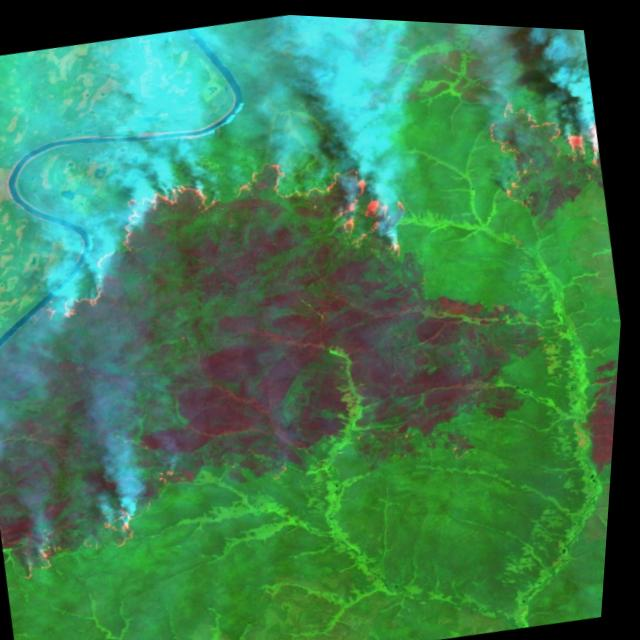fire: (19, 117, 434, 342), (0, 451, 207, 592), (460, 74, 613, 217), (342, 390, 499, 482)
